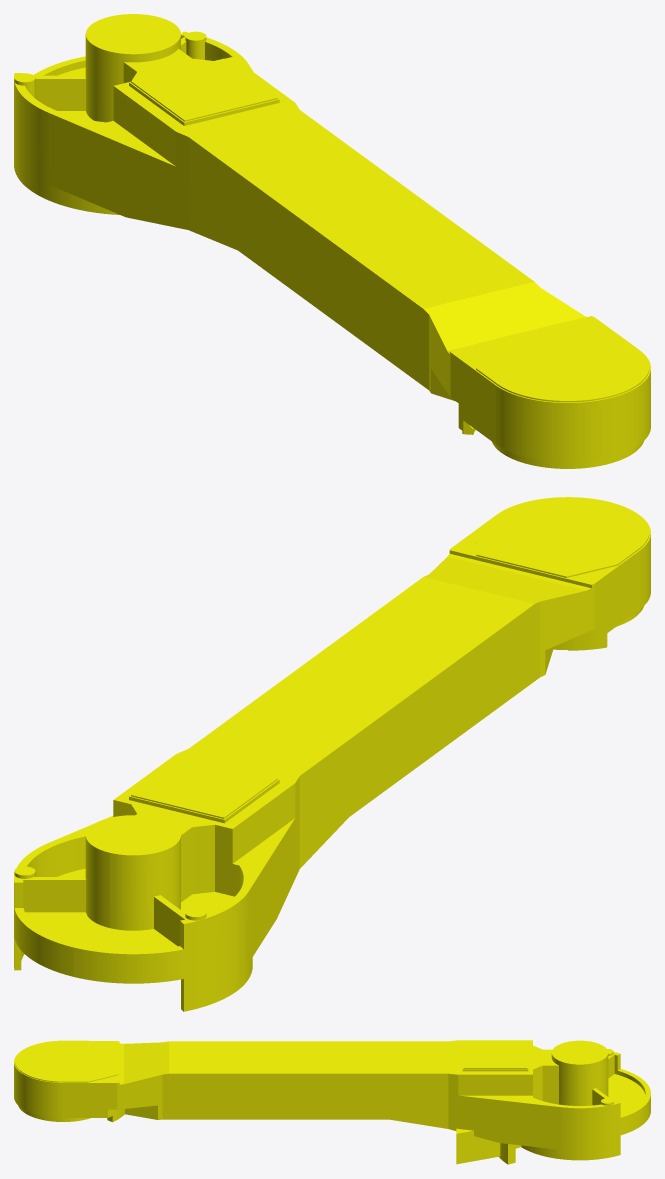
The picture shows the model from 3 angles, top to bottom: view 1: azimuth 30°, elevation 25°; view 2: azimuth 150°, elevation 25°; view 3: azimuth 270°, elevation 25°; orthographic projection. The views are drawn at different scales.
Parts seen in each view (by area): view 1: Mesh_0; view 2: Mesh_0; view 3: Mesh_0.
Part boxes in pixels (x1,y1,x2,y2): Mesh_0: (14,14,650,468); Mesh_0: (14,497,650,1011); Mesh_0: (14,1040,650,1164).
Bounding box in the file's own units: 0.316 × 0.225 × 1.42.
